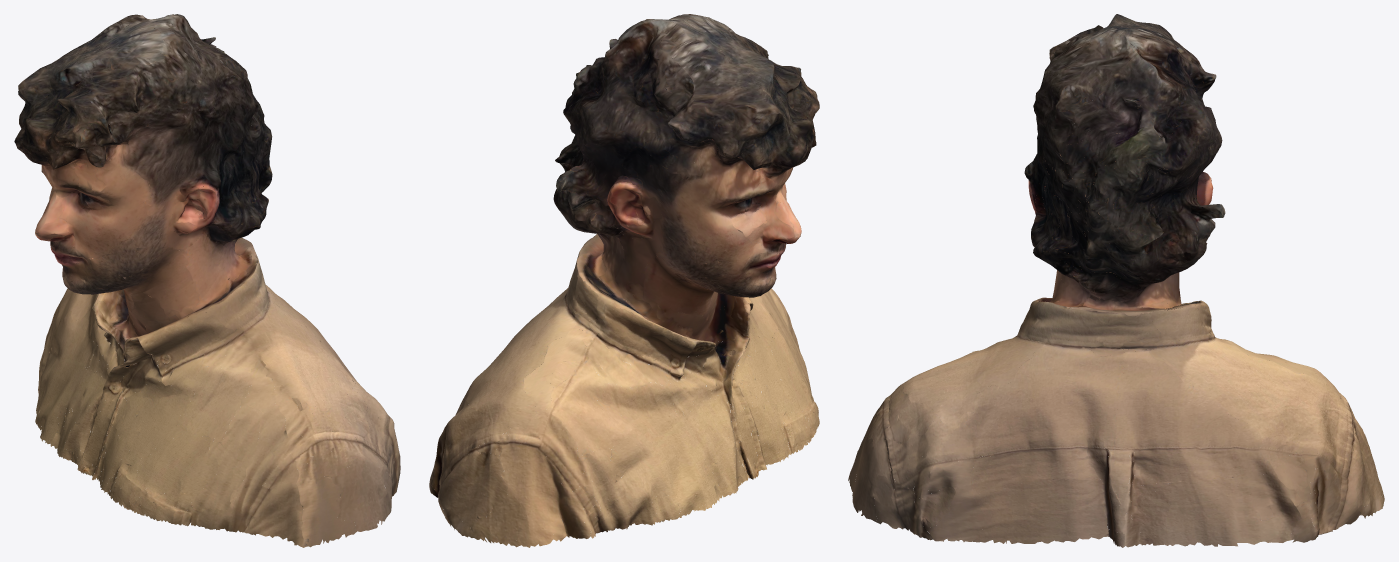
The model's file is mattia.glb.
3 renders of one model, left to right at view 1: azimuth 30°, elevation 25°; view 2: azimuth 150°, elevation 25°; view 3: azimuth 270°, elevation 25°, orthographic. The views are drawn at different scales.
Parts seen in each view (by area): view 1: simplified; view 2: simplified; view 3: simplified.
Boxes of the visible parts, x1=… form: simplified: x1=14, y1=14, x2=400, y2=547; simplified: x1=429, y1=14, x2=819, y2=547; simplified: x1=848, y1=14, x2=1384, y2=547.
Size of the model in its own units: 0.3419 by 0.4803 by 0.5397.
Materials: 1 (1 with a texture image).
